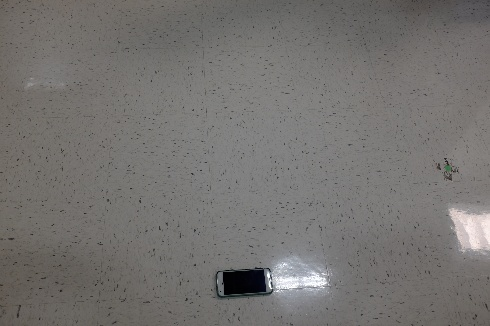phone: (220, 267, 269, 299)
